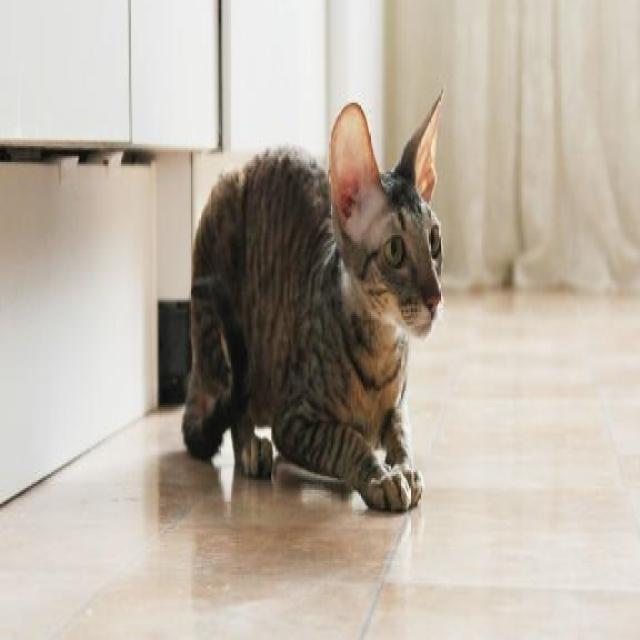Cornish Rex: (178, 81, 448, 522)
